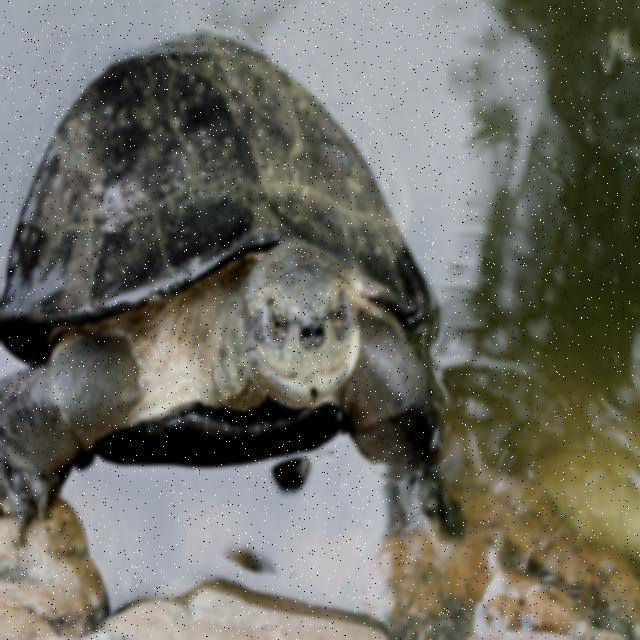tortoise: (8, 29, 464, 528)
